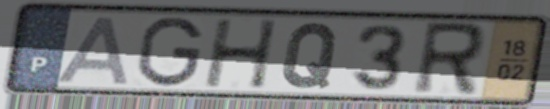3: (347, 23, 412, 92)
A: (53, 14, 134, 87)
G: (134, 15, 205, 89)
H: (203, 17, 282, 90)
Q: (279, 20, 343, 91)
R: (408, 20, 488, 99)
